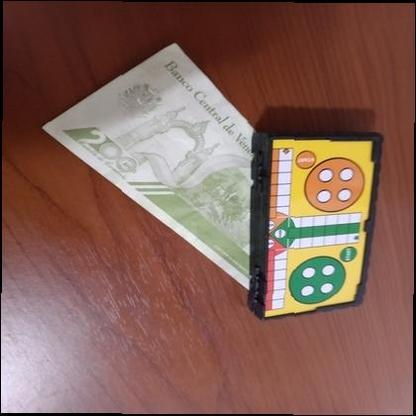fifty-back-vef: (39, 40, 256, 290)
